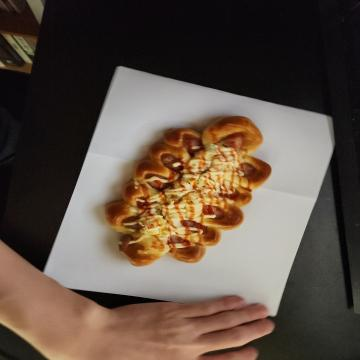pizza_bread: (117, 89, 269, 257)
